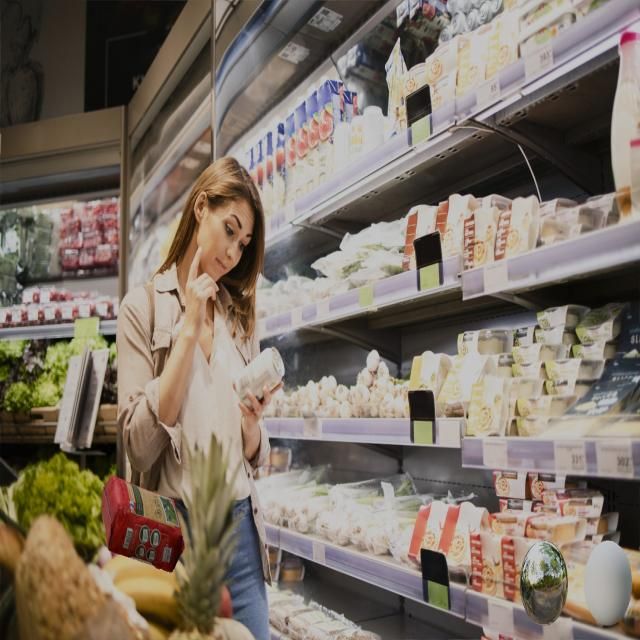mate bag: (101, 474, 185, 573)
